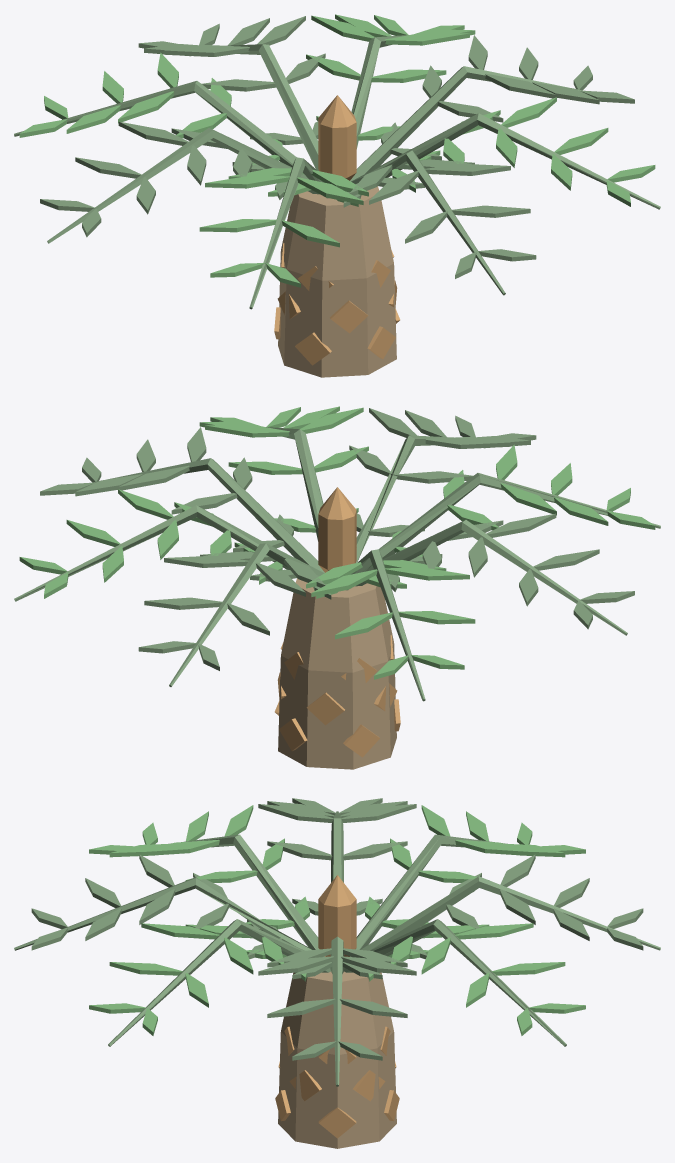
File: cycad.932e35cc9b97.glb
3 renders of one model, top to bottom at view 1: azimuth 30°, elevation 25°; view 2: azimuth 150°, elevation 25°; view 3: azimuth 270°, elevation 25°, orthographic. The views are drawn at different scales.
Parts seen in each view (by area): view 1: cycad; view 2: cycad; view 3: cycad.
Boxes of the visible parts, x1,y1,x2,y2 form: cycad: [14, 14, 660, 377]; cycad: [14, 406, 660, 769]; cycad: [14, 798, 660, 1148].
Bounding box in the file's own units: 0.9999 × 0.4246 × 1.
